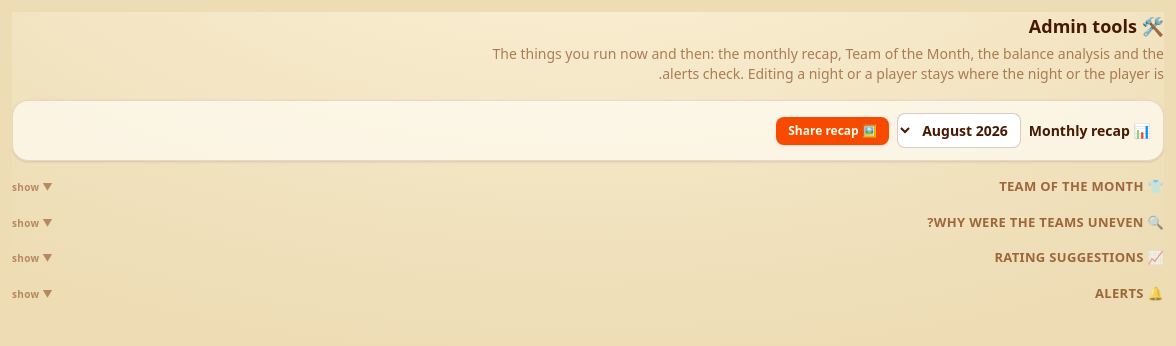
Test: the rating suggestions, while the switch is off › says why rather than disappearing
Step 1. Click the button "📈 Rating suggestions ▼ show" → (1069, 257), box [12,248,1164,268]
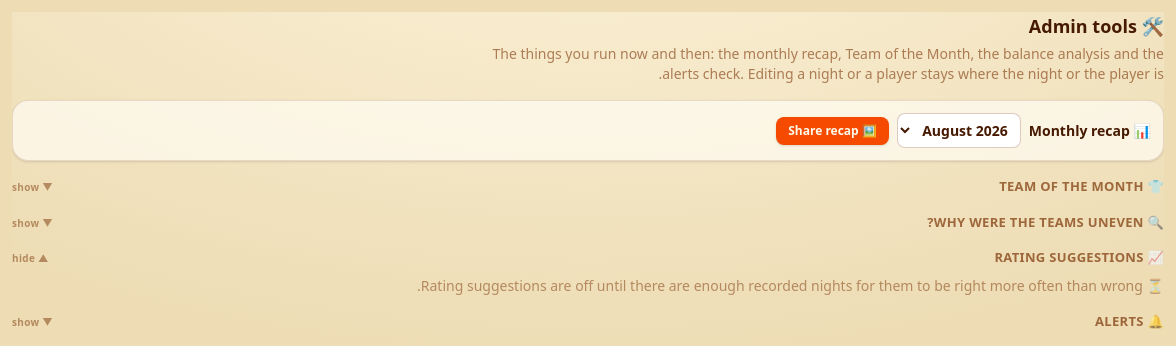
Now the text "off until there are enough recorded nights" is shown, box [417,276,1164,294]
